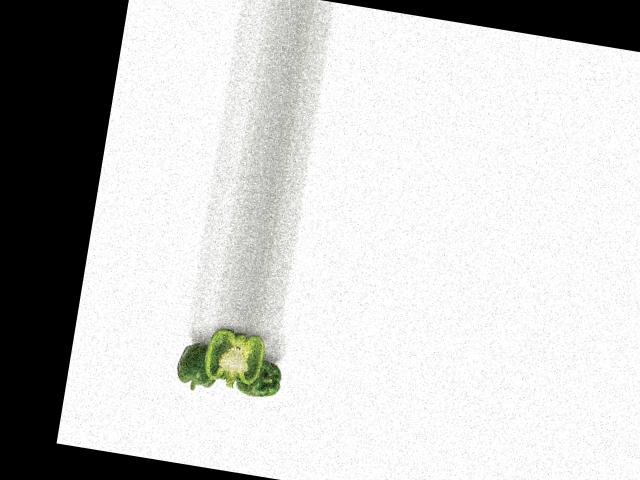bell_pepper: (230, 350, 288, 404)
